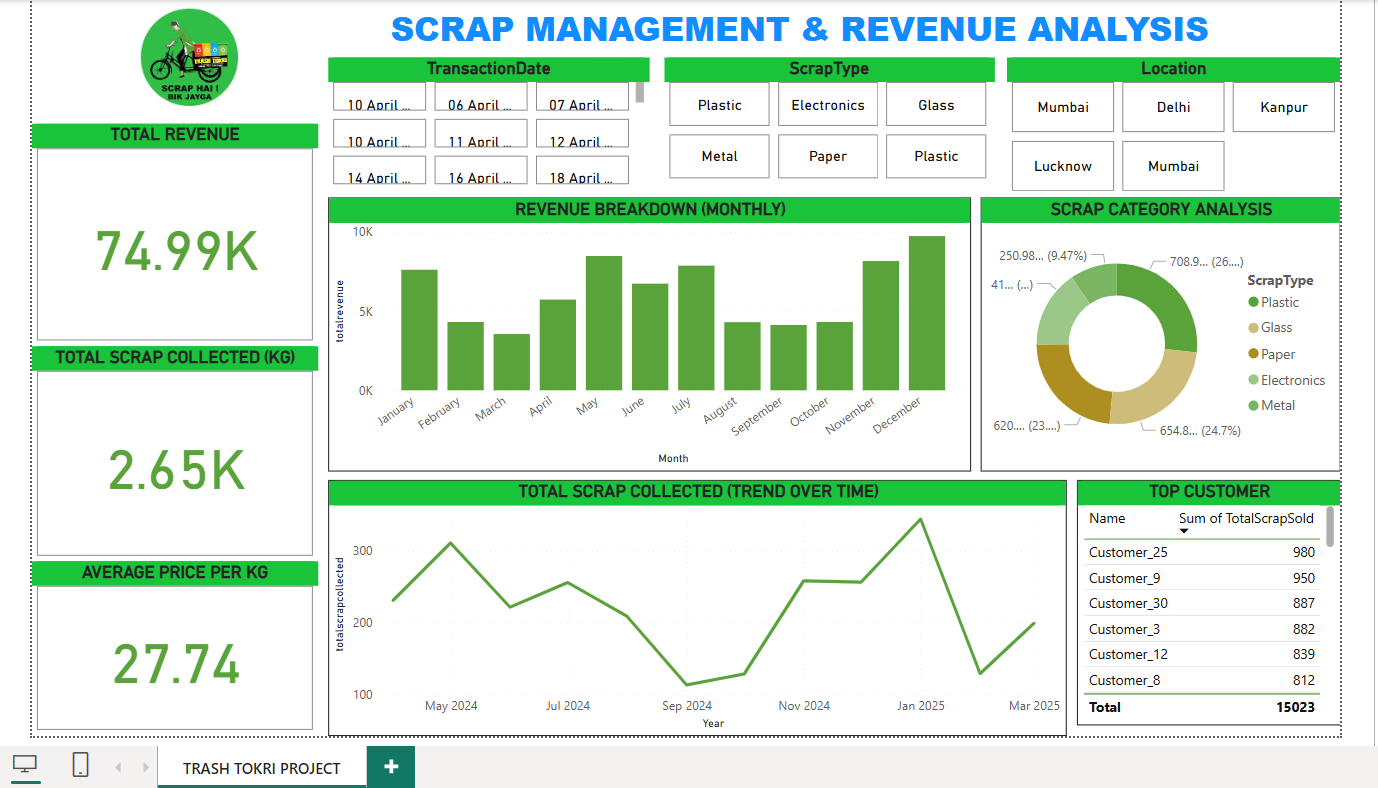

Layout of this report page (visuals, bound fields, positions):
{"tool":"powerbi","page":{"name":"TRASH TOKRI PROJECT","canvas":[1280,720],"ordinal":0},"visuals":[{"type":"cardVisual","title":"TOTAL REVENUE","fields":{"Data":["Customers (2).totalrevenue"]},"box":[0,121.1,280,217.7],"z":0,"group":"g2"},{"type":"cardVisual","title":"TOTAL SCRAP COLLECTED (KG)","fields":{"Data":["Customers (2).totalscrapcollected"]},"box":[0,338.8,280,210.3],"z":1000,"group":"g2"},{"type":"cardVisual","title":"AVERAGE PRICE PER KG","fields":{"Data":["Customers (2).avgpriceperkg"]},"box":[0,549.1,280,171.2],"z":2000,"group":"g2"},{"type":"lineChart","title":"TOTAL SCRAP COLLECTED (TREND OVER TIME)","fields":{"Y":["Customers (2).totalscrapcollected"],"Category":["Scrap_Transactions.TransactionDate.Variation.Date Hierarchy.Year","Scrap_Transactions.TransactionDate.Variation.Date Hierarchy.Month"]},"box":[289.8,469.6,722.7,250.7],"z":3000,"group":"g3"},{"type":"columnChart","title":"REVENUE BREAKDOWN (MONTHLY)","fields":{"Category":["Scrap_Transactions.TransactionDate.Variation.Date Hierarchy.Month"],"Y":["Customers (2).totalrevenue"]},"box":[289.8,193.2,628.5,267.8],"z":4000,"group":"g3"},{"type":"tableEx","title":"TOP CUSTOMER","fields":{"Values":["Customers (2).Name","Sum(Customers (2).TotalScrapSold)"]},"box":[1022.3,469.6,258,239.7],"z":5000,"group":"g3"},{"type":"donutChart","title":"SCRAP CATEGORY ANALYSIS","fields":{"Category":["Scrap_Categories.ScrapType"],"Y":["Customers (2).totalscrapcollected"]},"box":[928.1,193.2,352.2,267.8],"z":6000,"group":"g3"},{"type":"textbox","box":[221.3,0,1059,64.8],"z":6001},{"type":"image","box":[0,3.7,308.2,105.2],"z":6002},{"type":"advancedSlicerVisual","fields":{"Values":["Scrap_Transactions.TransactionDate"]},"box":[289.8,56.3,314.3,129.6],"z":6003,"group":"g1"},{"type":"advancedSlicerVisual","fields":{"Values":["Scrap_Transactions.ScrapType"]},"box":[618.7,56.3,322.8,124.7],"z":6004,"group":"g1"},{"type":"advancedSlicerVisual","fields":{"Values":["Customers (2).Location"]},"box":[953.8,56.3,326.5,137],"z":6005,"group":"g1"},{"type":"group","id":"g1","title":"Group 1","box":[289.8,56.3,990.5,137],"z":6006},{"type":"group","id":"g2","title":"Group 2","box":[0,121.1,280,599.2],"z":6007},{"type":"group","id":"g3","title":"Group 3","box":[289.8,193.2,990.5,527],"z":6008}]}

Visuals, with their boxes in screenshot pixels (x1, y1, x2, y2):
"TOTAL REVENUE" cardVisual: <bbox>25, 120, 312, 343</bbox>
"TOTAL SCRAP COLLECTED (KG)" cardVisual: <bbox>25, 343, 312, 559</bbox>
"AVERAGE PRICE PER KG" cardVisual: <bbox>25, 559, 312, 734</bbox>
"TOTAL SCRAP COLLECTED (TREND OVER TIME)" lineChart: <bbox>322, 477, 1062, 734</bbox>
"REVENUE BREAKDOWN (MONTHLY)" columnChart: <bbox>322, 194, 965, 468</bbox>
"TOP CUSTOMER" tableEx: <bbox>1072, 477, 1336, 723</bbox>
"SCRAP CATEGORY ANALYSIS" donutChart: <bbox>976, 194, 1336, 468</bbox>
textbox: <bbox>252, 0, 1336, 63</bbox>
image: <bbox>25, 0, 341, 108</bbox>
advancedSlicerVisual - Scrap_Transactions.TransactionDate: <bbox>322, 54, 644, 187</bbox>
advancedSlicerVisual - Scrap_Transactions.ScrapType: <bbox>659, 54, 989, 182</bbox>
advancedSlicerVisual - Customers (2).Location: <bbox>1002, 54, 1336, 194</bbox>
"Group 1" group: <bbox>322, 54, 1336, 194</bbox>
"Group 2" group: <bbox>25, 120, 312, 734</bbox>
"Group 3" group: <bbox>322, 194, 1336, 734</bbox>
